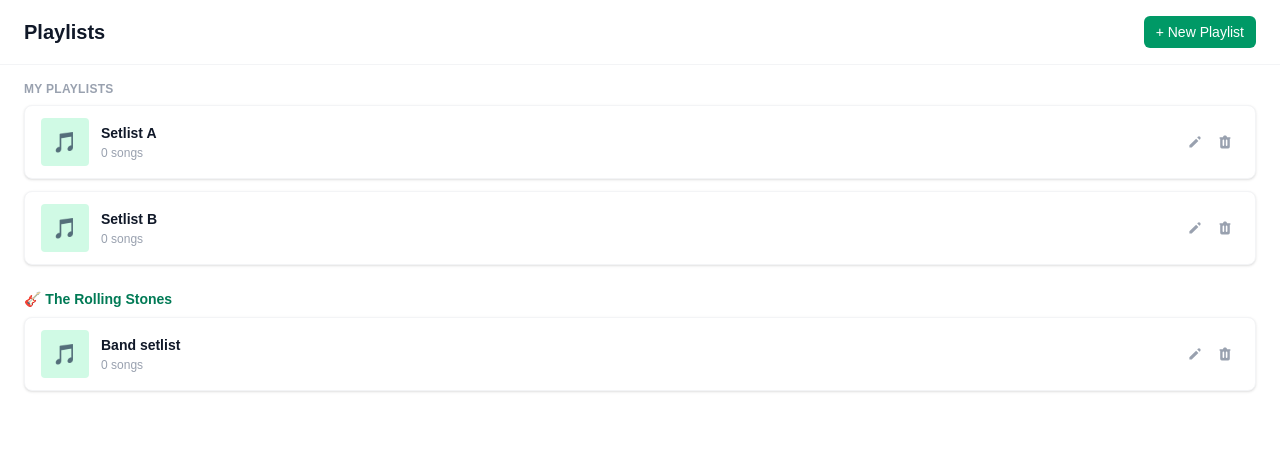
PlaylistsView › surfaces a delete failure in the error banner and keeps the card
Click the button named "Delete Setlist A" at (1225, 142), box [1211, 128, 1239, 156]
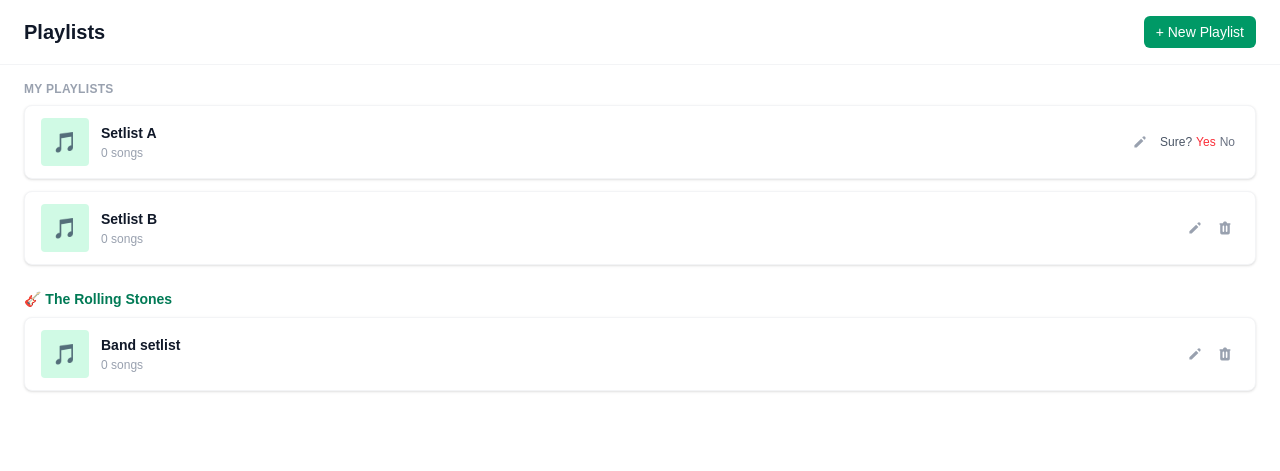
Click the button "Yes" at (1206, 142), box [1196, 134, 1216, 150]
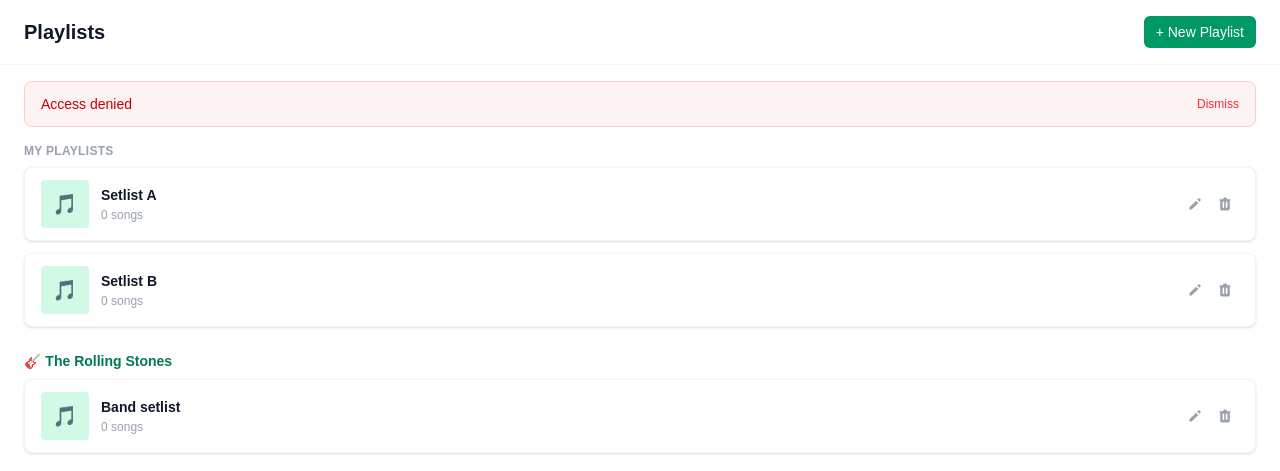
Expected: the text "Setlist A" is shown, [101, 187, 156, 203]
Now the message shows "Access denied", box [41, 96, 132, 112]
